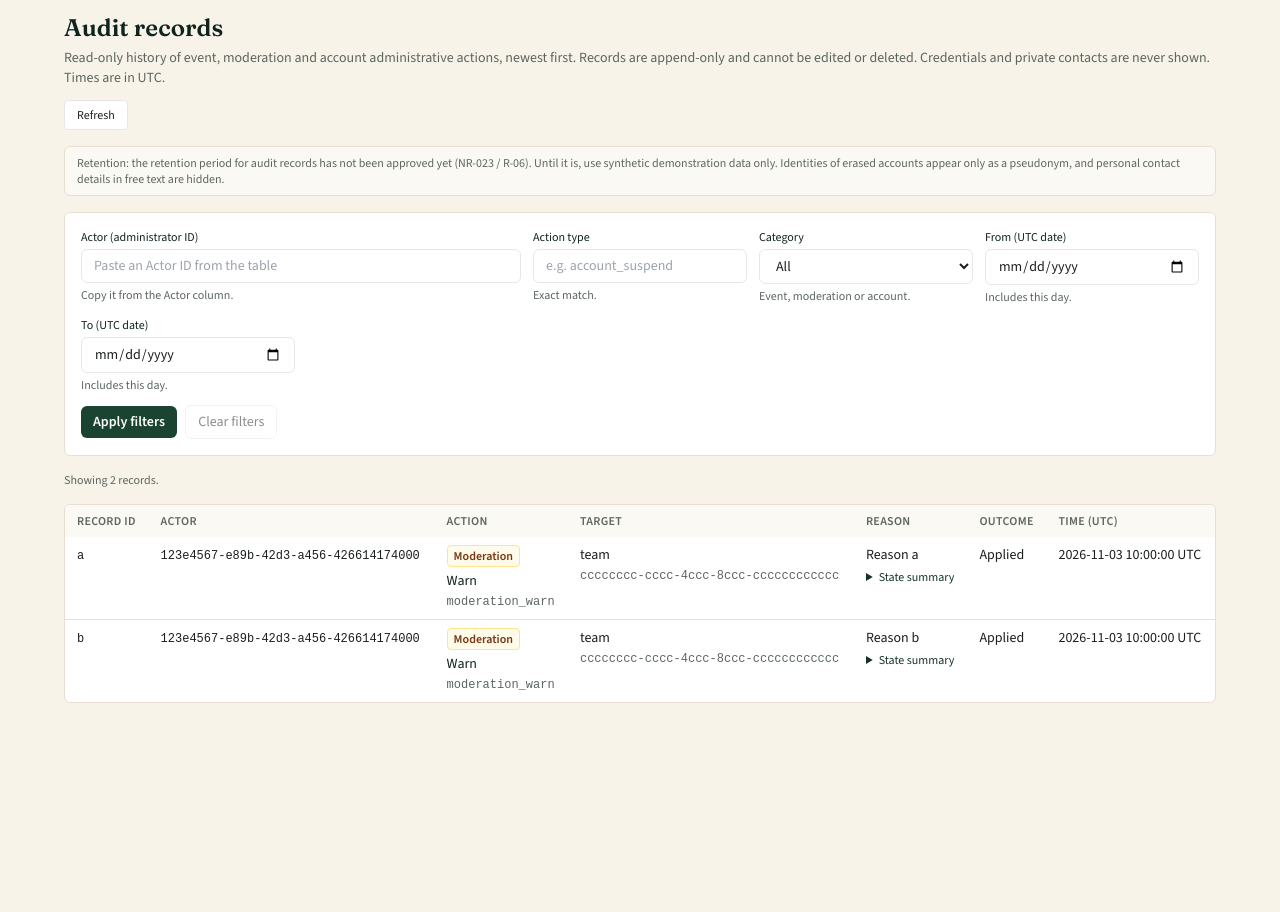
AuditRecordsPage filters (US-028 / #260) › applies the actor filter and shows only the matching rows
In the field with test id "audit-filter-actor": (301,266) [81,249,521,283], type "123e4567-e89b-42d3-a456-426614174000"
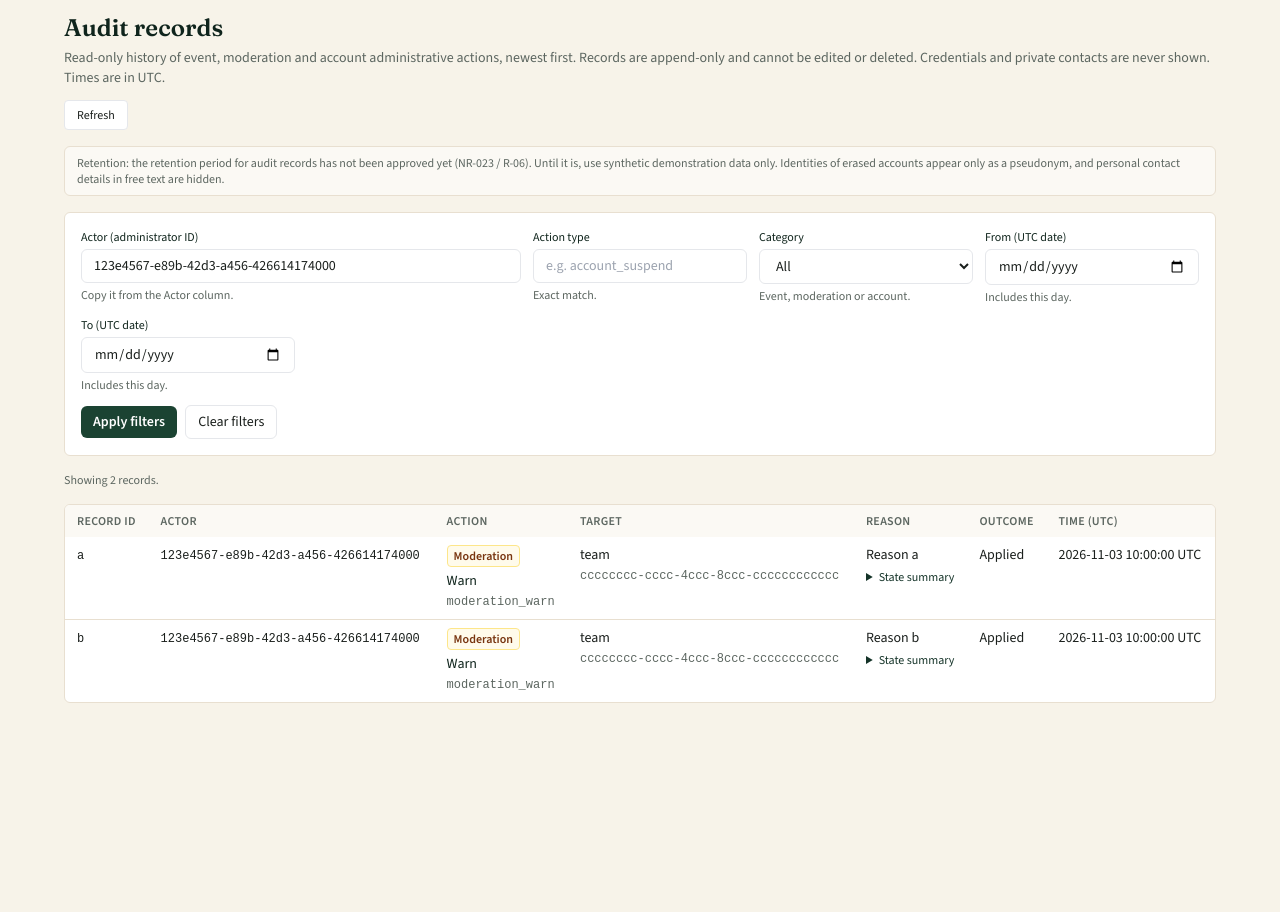
Click the button with test id "audit-filter-apply": (129,422) [81,406,177,438]
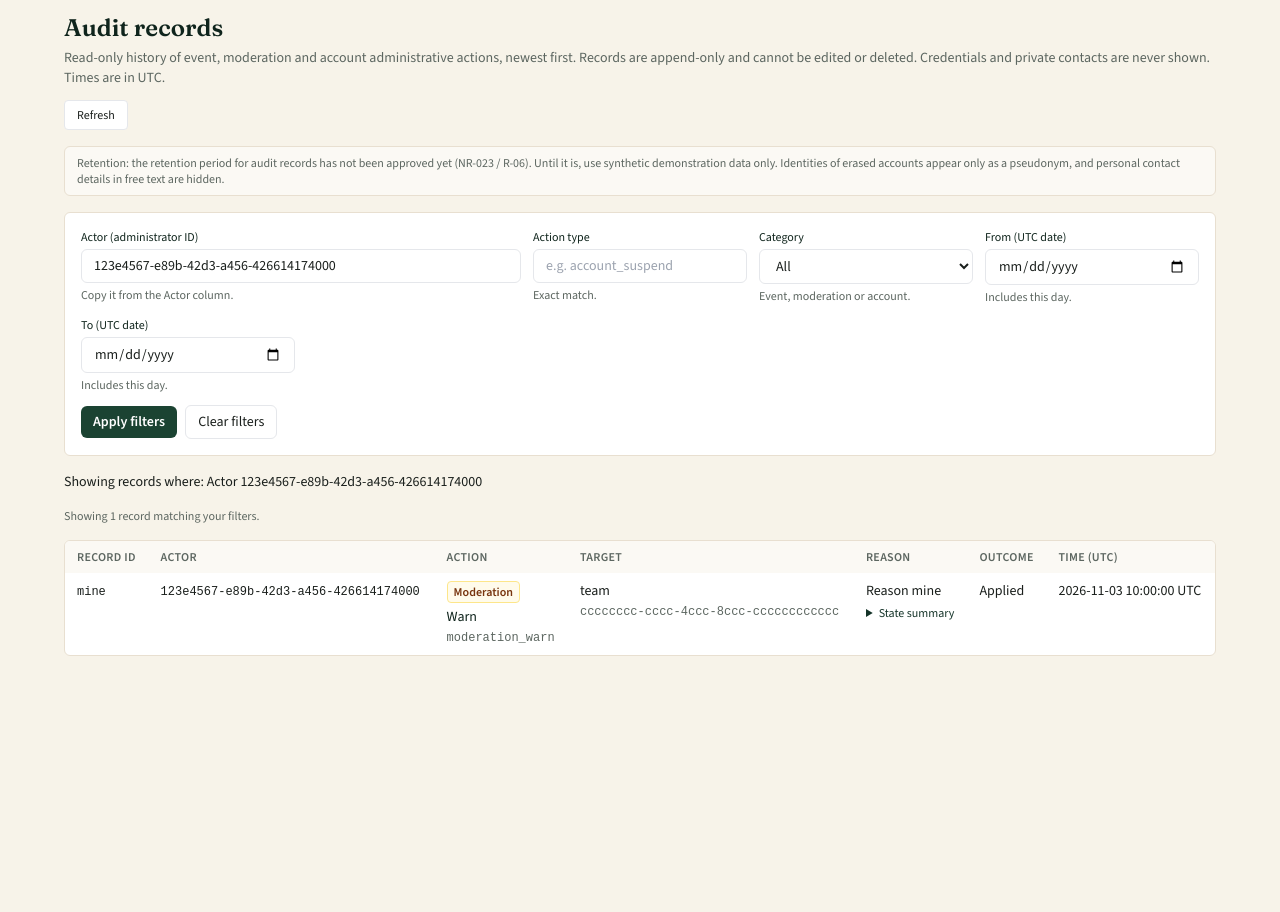
Expected: the row with test id "audit-row-mine" is shown, [65,573,1215,655]
Expected: the row with test id "audit-row-a" is gone
Expected: the text with test id "audit-count" reads "Showing 1 record matching your filters.", [64,508,260,524]
